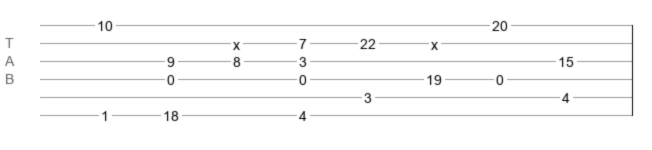0: (167, 72, 175, 82), (299, 72, 307, 82), (496, 72, 504, 82)
1: (101, 108, 109, 118)
10: (97, 18, 113, 28)
15: (558, 54, 574, 64)
18: (163, 108, 179, 118)
19: (426, 72, 442, 82)
20: (492, 18, 508, 28)
22: (360, 36, 376, 46)
3: (299, 54, 307, 64), (364, 90, 372, 100)
4: (299, 108, 307, 118), (562, 90, 570, 100)
7: (299, 36, 307, 46)
8: (233, 54, 241, 64)
9: (167, 54, 175, 64)
x: (233, 37, 240, 45), (431, 37, 438, 45)
